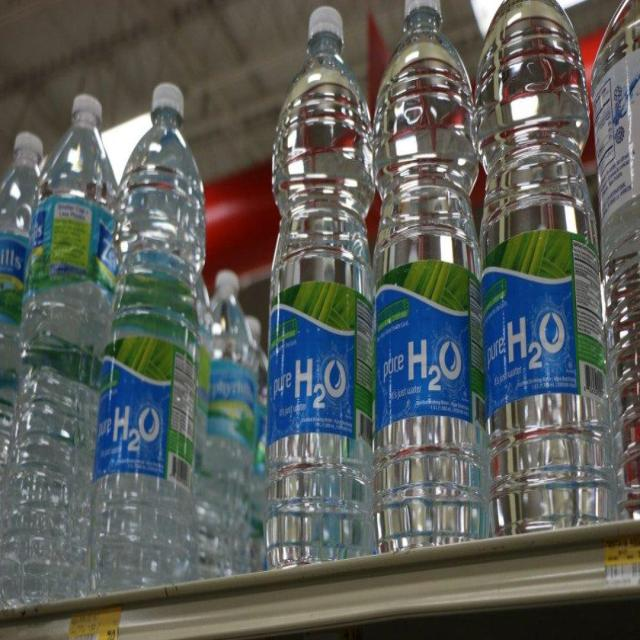bottle: (250, 1, 378, 577), (481, 0, 603, 532), (89, 72, 212, 578), (373, 0, 484, 551), (2, 54, 111, 600), (582, 0, 640, 532), (0, 128, 44, 302)
